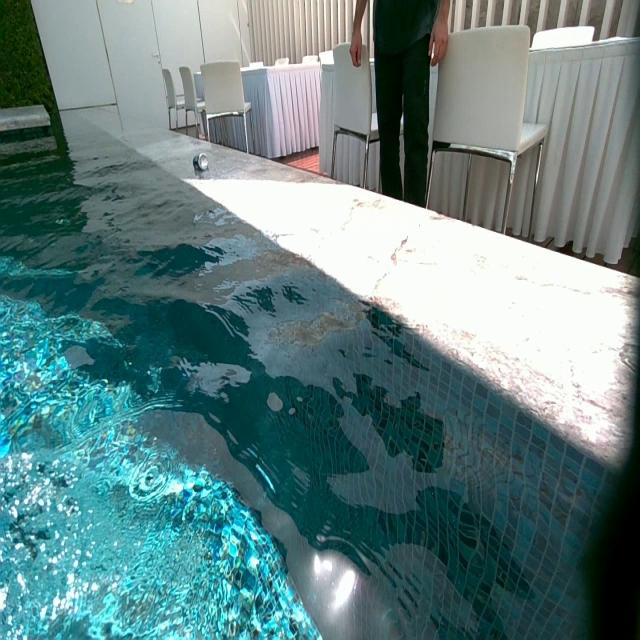Cans: (194, 154, 210, 172)
